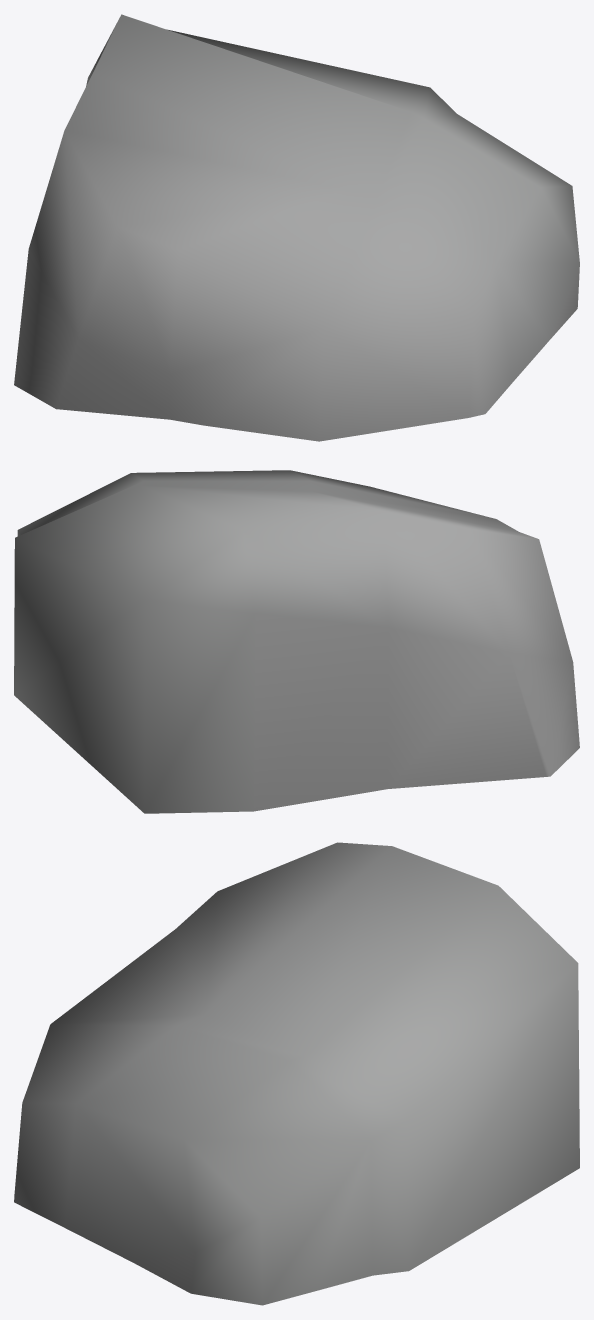
File: Rock_01.fbx
3 renders of one model, top to bottom at view 1: azimuth 30°, elevation 25°; view 2: azimuth 150°, elevation 25°; view 3: azimuth 270°, elevation 25°, orthographic. The views are drawn at different scales.
Visible parts, largest first — view 1: Rock_01; view 2: Rock_01; view 3: Rock_01.
Part boxes in pixels (box(x1,y1,x2,y2)): Rock_01: box(14, 14, 579, 441); Rock_01: box(14, 470, 579, 813); Rock_01: box(14, 842, 579, 1305).
Bounding box in the file's own units: 0.9138 × 0.4201 × 0.8329.
